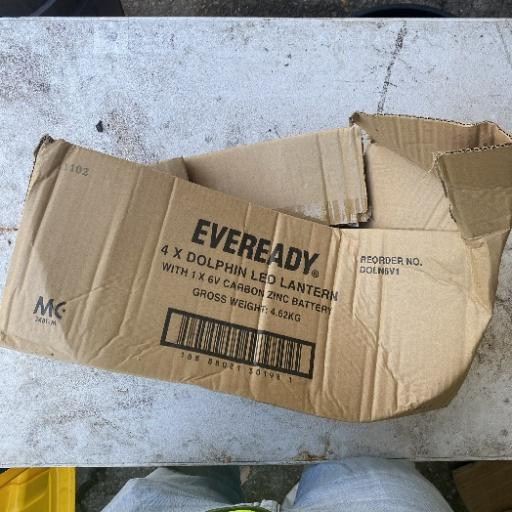Cardboard: (1, 111, 510, 424)
